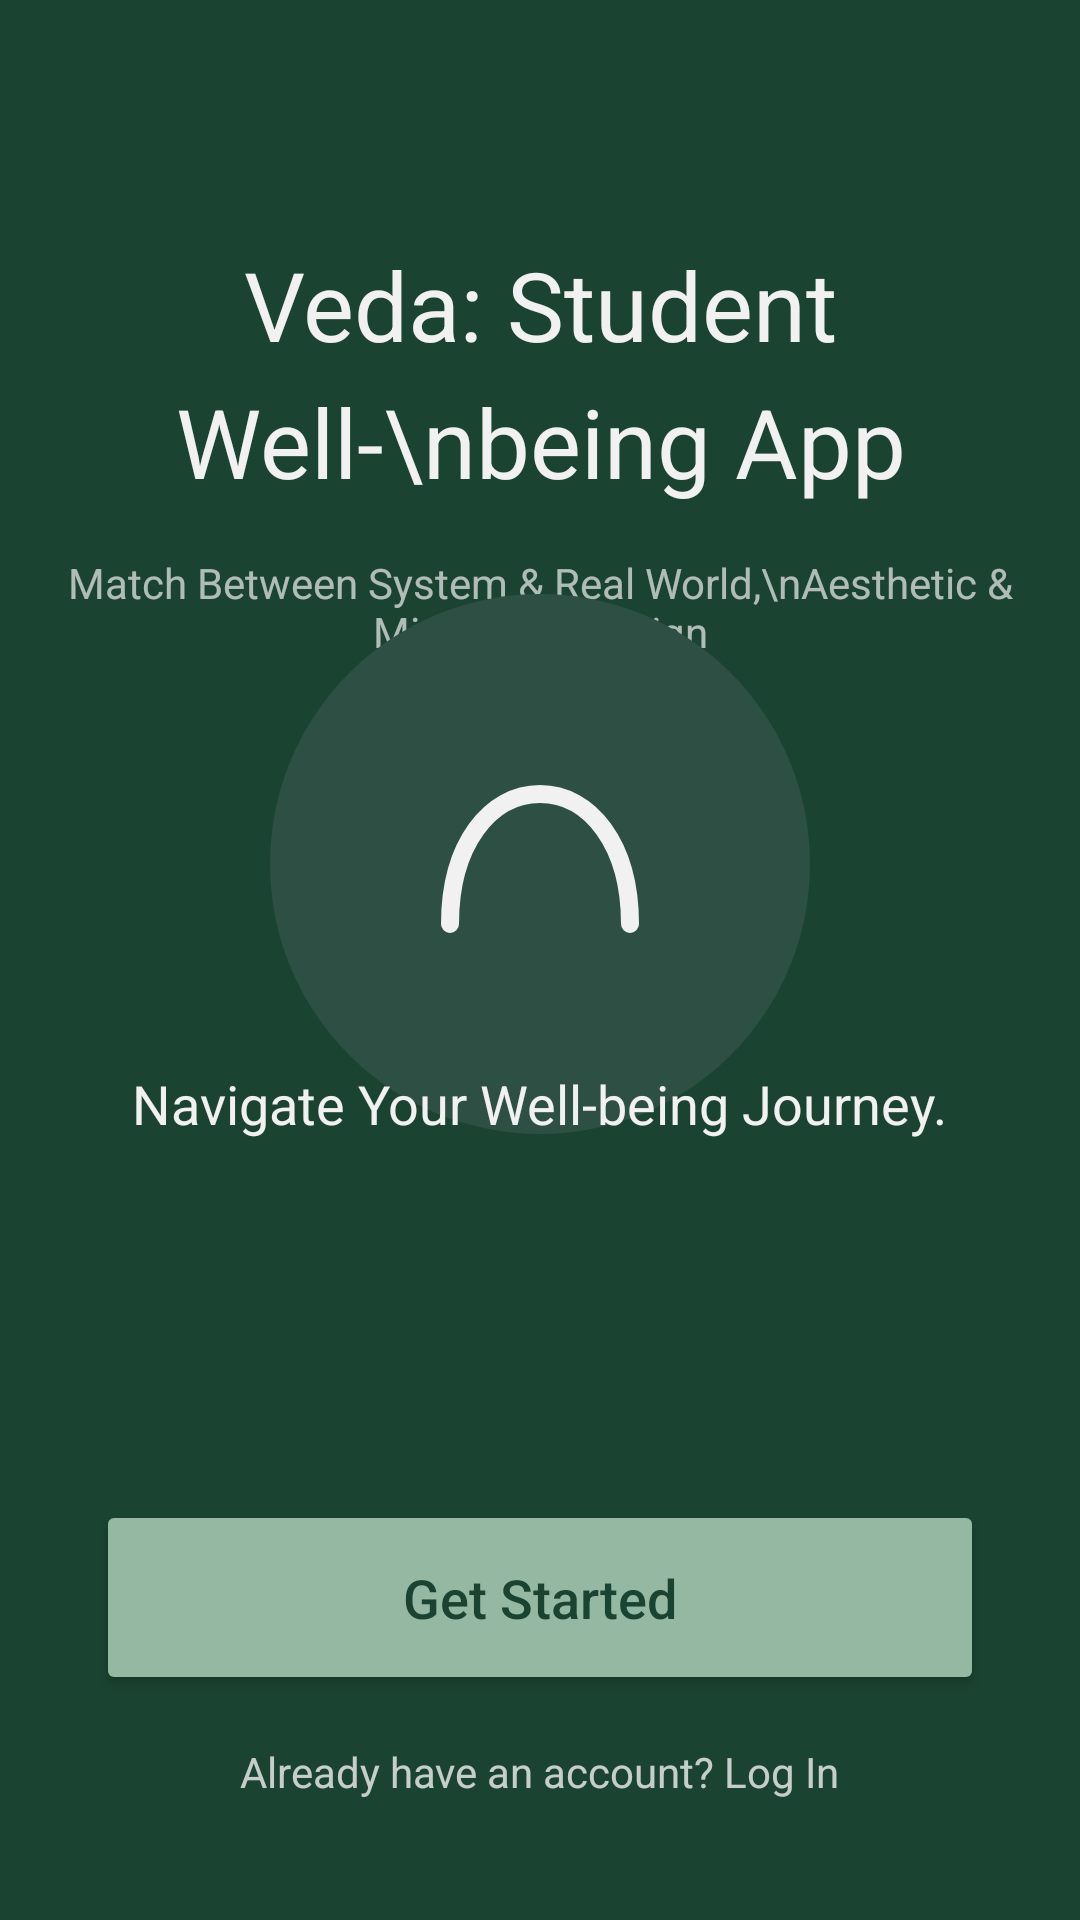

Where icons sit on this 1080w x 1920h app screen, as (x1, y1, x2, y2):
veda arc: (441, 785, 639, 933)
